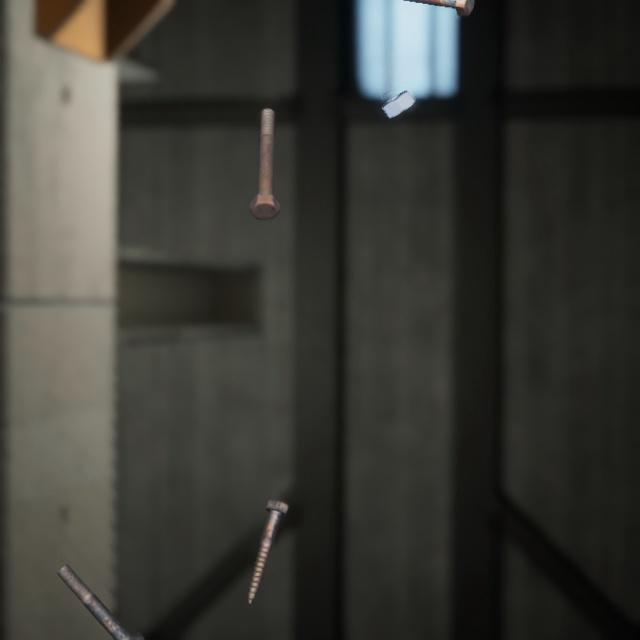bolt: (52, 536, 149, 640), (242, 472, 293, 585), (244, 90, 284, 209)
nut: (377, 74, 419, 111)
